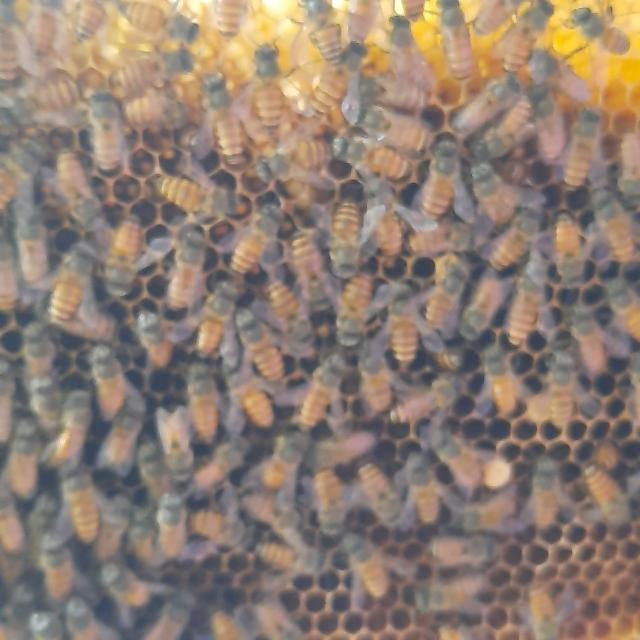honeybee: (376, 13, 441, 111), (251, 42, 307, 154), (228, 368, 303, 444), (200, 75, 256, 174), (582, 176, 638, 272), (255, 140, 346, 198), (287, 222, 344, 314), (110, 43, 198, 102), (233, 307, 289, 398), (345, 96, 434, 152), (383, 370, 465, 430), (86, 482, 142, 569), (531, 342, 587, 428), (298, 455, 357, 536), (554, 104, 602, 202), (411, 531, 501, 583), (471, 167, 539, 235), (77, 94, 133, 174), (47, 388, 99, 474), (478, 95, 542, 163), (505, 249, 546, 352), (191, 434, 251, 504), (297, 360, 352, 436), (156, 403, 204, 489), (339, 132, 414, 187), (354, 183, 404, 265), (56, 471, 109, 548), (102, 385, 144, 482), (153, 178, 241, 224), (167, 228, 213, 316), (52, 151, 102, 231), (308, 41, 356, 124), (232, 194, 281, 275), (434, 0, 480, 86), (344, 537, 408, 598), (104, 567, 163, 633), (353, 458, 407, 530), (451, 71, 520, 127), (323, 202, 364, 296), (96, 226, 151, 296), (518, 579, 581, 640), (190, 275, 233, 364), (266, 280, 316, 356), (383, 285, 426, 373), (435, 432, 484, 509), (451, 493, 526, 543), (404, 454, 452, 532), (6, 188, 46, 280), (426, 256, 468, 342), (256, 530, 325, 582), (124, 86, 189, 141), (2, 422, 50, 496), (48, 304, 130, 347), (569, 301, 609, 389), (177, 356, 215, 447), (34, 533, 80, 608), (526, 86, 566, 172), (503, 0, 551, 70), (414, 570, 486, 616), (328, 275, 372, 350), (89, 349, 131, 426), (45, 244, 89, 317), (585, 468, 640, 526), (571, 0, 631, 53), (250, 454, 325, 496), (202, 506, 268, 551), (528, 458, 568, 532), (524, 46, 583, 96), (426, 139, 462, 219), (19, 312, 59, 383), (551, 208, 592, 277), (466, 263, 500, 346), (488, 202, 529, 269), (301, 1, 340, 70), (366, 353, 404, 420), (24, 0, 63, 65), (482, 348, 518, 418), (156, 489, 192, 559), (319, 423, 380, 464), (135, 308, 173, 372), (129, 511, 170, 570), (22, 74, 82, 114), (236, 480, 296, 520), (398, 218, 455, 260), (144, 596, 198, 640), (0, 0, 24, 93), (0, 501, 30, 570), (2, 148, 30, 221), (116, 0, 179, 31), (63, 602, 113, 640), (609, 280, 640, 340), (199, 0, 252, 34), (342, 0, 376, 49), (618, 135, 640, 210), (32, 379, 62, 429), (2, 358, 20, 441), (0, 227, 14, 319), (431, 335, 462, 375), (473, 0, 511, 31), (212, 604, 244, 640), (76, 0, 102, 43), (32, 613, 62, 640), (398, 0, 418, 19)
